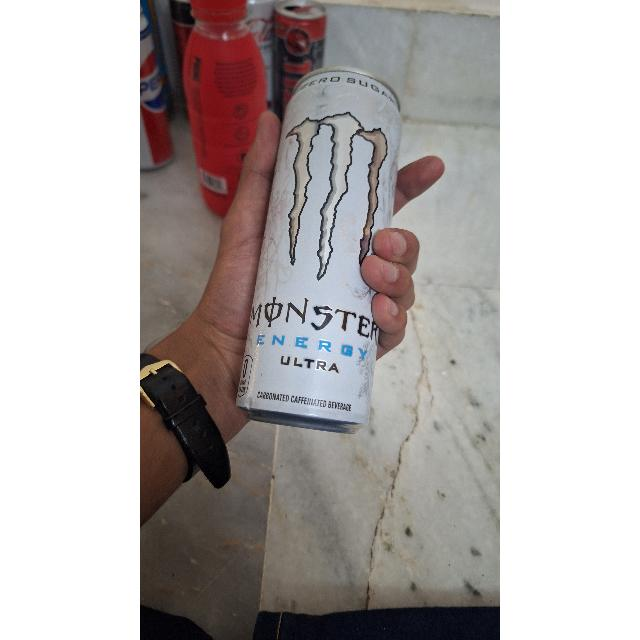White Monster: (238, 65, 392, 431)
